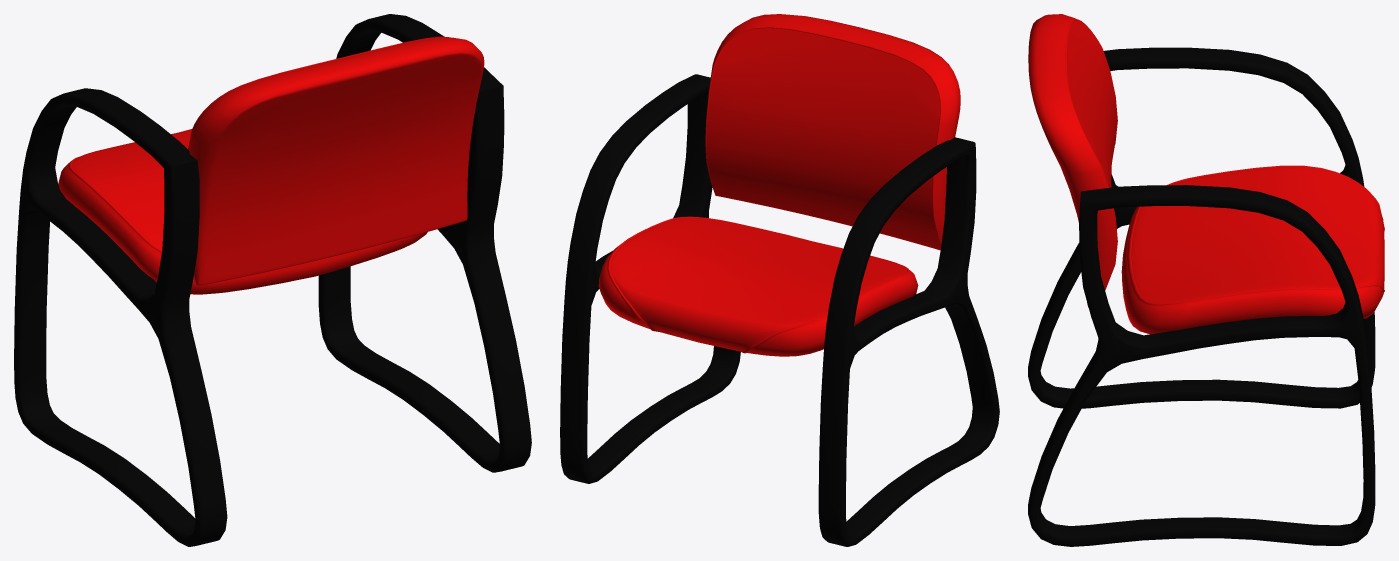
File: Стул.fbx
The picture shows the model from 3 angles, left to right: view 1: azimuth 30°, elevation 25°; view 2: azimuth 150°, elevation 25°; view 3: azimuth 270°, elevation 25°; orthographic projection. The views are drawn at different scales.
Parts seen in each view (by area): view 1: Chair1; view 2: Chair1; view 3: Chair1.
Boxes of the visible parts, <box> form: Chair1: <box>14,14,531,546</box>; Chair1: <box>560,14,999,546</box>; Chair1: <box>1028,14,1384,546</box>.
Size of the model in its own units: 151 by 196 by 151.
